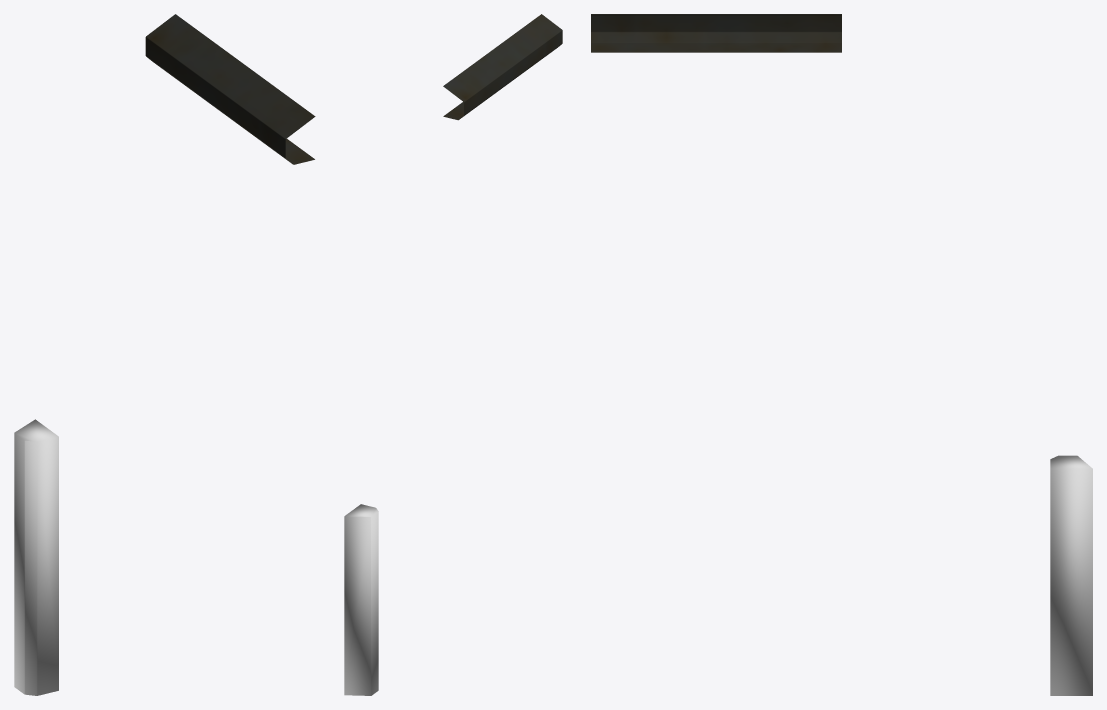
File: SM_Beam_WallSmall.fbx
3 renders of one model, left to right at view 1: azimuth 30°, elevation 25°; view 2: azimuth 150°, elevation 25°; view 3: azimuth 270°, elevation 25°, orthographic. The views are drawn at different scales.
Parts seen in each view (by area): view 1: SM_Beam_WallSmall_ConvexHulls, SM_Beam_WallSmall; view 2: SM_Beam_WallSmall_ConvexHulls, SM_Beam_WallSmall; view 3: SM_Beam_WallSmall_ConvexHulls, SM_Beam_WallSmall.
Part boxes in pixels (x1,y1,x2,y2): SM_Beam_WallSmall_ConvexHulls: [14, 419, 58, 695]; SM_Beam_WallSmall: [145, 14, 315, 164]; SM_Beam_WallSmall_ConvexHulls: [344, 504, 378, 695]; SM_Beam_WallSmall: [443, 14, 562, 120]; SM_Beam_WallSmall_ConvexHulls: [1050, 455, 1092, 695]; SM_Beam_WallSmall: [591, 14, 841, 52].
Size of the model in its own units: 0.1849 by 4.5 by 3.
